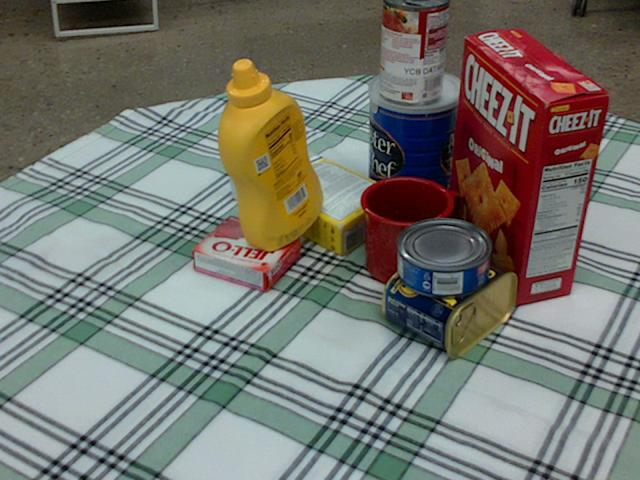cracker_box: (446, 28, 611, 302)
gelatin_box: (192, 217, 302, 293)
master_chef_can: (365, 67, 465, 222)
mug: (361, 176, 463, 287)
mustard_bottle: (218, 59, 322, 250)
potted_meat_can: (384, 238, 520, 354)
sugar_box: (226, 139, 396, 255)
tomato_soup_can: (380, 0, 450, 104)
tuna_fish_can: (396, 219, 491, 297)
